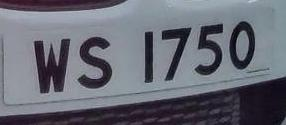0: (225, 16, 262, 76)
1: (132, 22, 163, 89)
5: (193, 18, 227, 79)
7: (155, 22, 195, 85)
S: (75, 26, 119, 98)
W: (27, 31, 76, 100)
